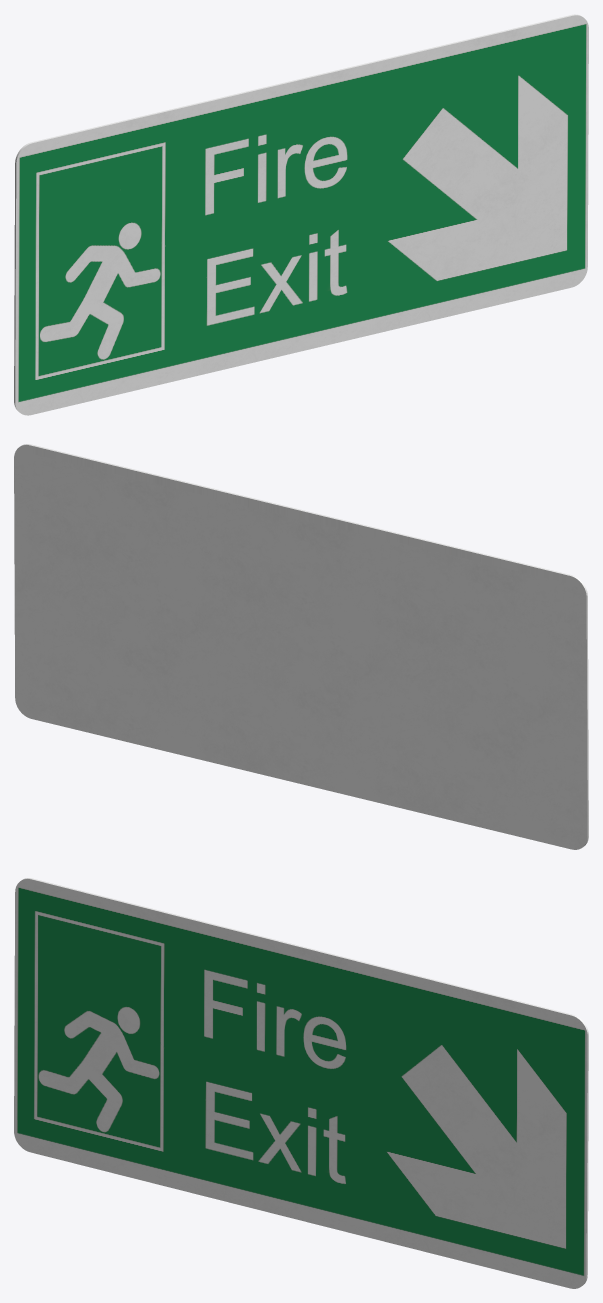
The model's file is exit_sign_board.glb.
3 views of the same model, one above another, from view 1: azimuth 30°, elevation 25°; view 2: azimuth 150°, elevation 25°; view 3: azimuth 330°, elevation 25° (orthographic).
Visible parts, largest first — view 1: Sign_0; view 2: Sign_0; view 3: Sign_0.
Boxes of the visible parts, bbox=[...] form: Sign_0: bbox=[14, 14, 588, 415]; Sign_0: bbox=[14, 444, 588, 849]; Sign_0: bbox=[14, 878, 588, 1288].
Size of the model in its own units: 0.693 by 0.3177 by 0.00615.
Materials: 1 (1 with a texture image).
